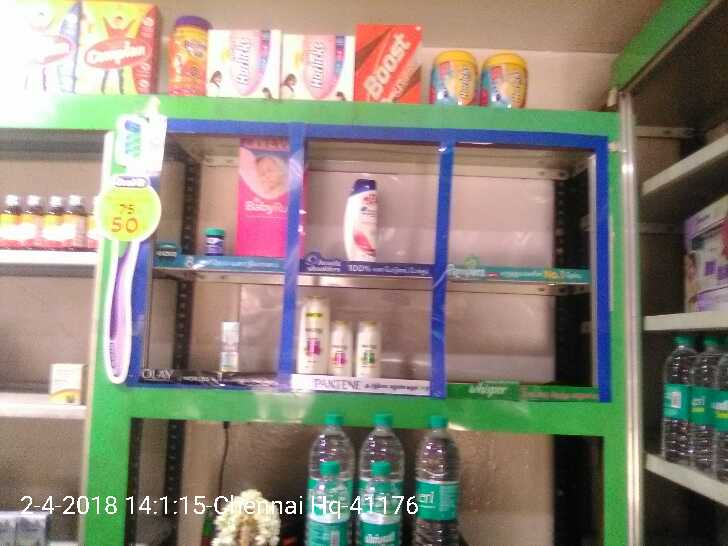vicks: (202, 226, 226, 257)
